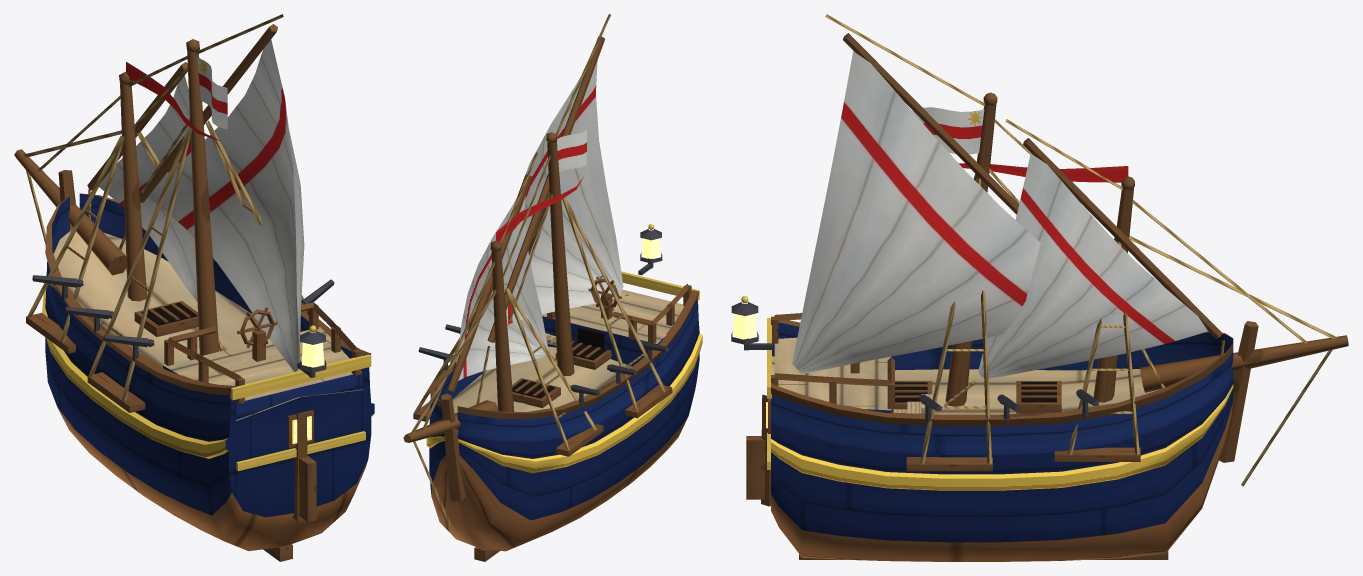
The model's file is navy_skirmisher.glb.
3 renders of one model, left to right at view 1: azimuth 30°, elevation 25°; view 2: azimuth 150°, elevation 25°; view 3: azimuth 270°, elevation 25°, orthographic. The views are drawn at different scales.
Parts seen in each view (by area): view 1: Hull, Sail1_0, Rigging, Sail0_0, Flag, Guns0; view 2: Hull, Rigging, Sail1_0, Sail0_0, Flag, Guns0; view 3: Hull, Sail1_0, Sail0_0, Rigging, Flag, Guns0.
Boxes of the visible parts, x1,y1,x2,y2 form: Hull: [26, 170, 374, 561]; Sail1_0: [148, 39, 304, 371]; Rigging: [14, 14, 307, 401]; Sail0_0: [99, 75, 210, 301]; Flag: [126, 57, 227, 141]; Guns0: [32, 275, 334, 361]; Hull: [413, 224, 702, 561]; Rigging: [403, 14, 666, 525]; Sail1_0: [503, 60, 623, 325]; Sail0_0: [456, 196, 548, 380]; Flag: [496, 130, 586, 242]; Guns0: [418, 324, 668, 406]; Hull: [731, 296, 1258, 561]; Sail1_0: [792, 51, 1040, 373]; Sail0_0: [978, 153, 1207, 378]; Rigging: [785, 14, 1348, 486]; Flag: [912, 107, 1128, 182]; Guns0: [919, 389, 1099, 422].
Bounding box in the file's own units: 0.8863 × 1.96 × 2.
8 materials, 8 textured.
